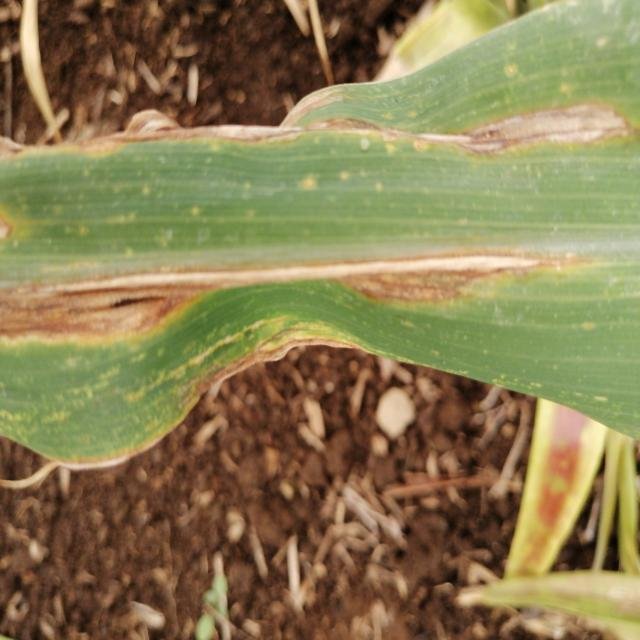Corn_Leaf_Blight: (0, 53, 640, 440)
